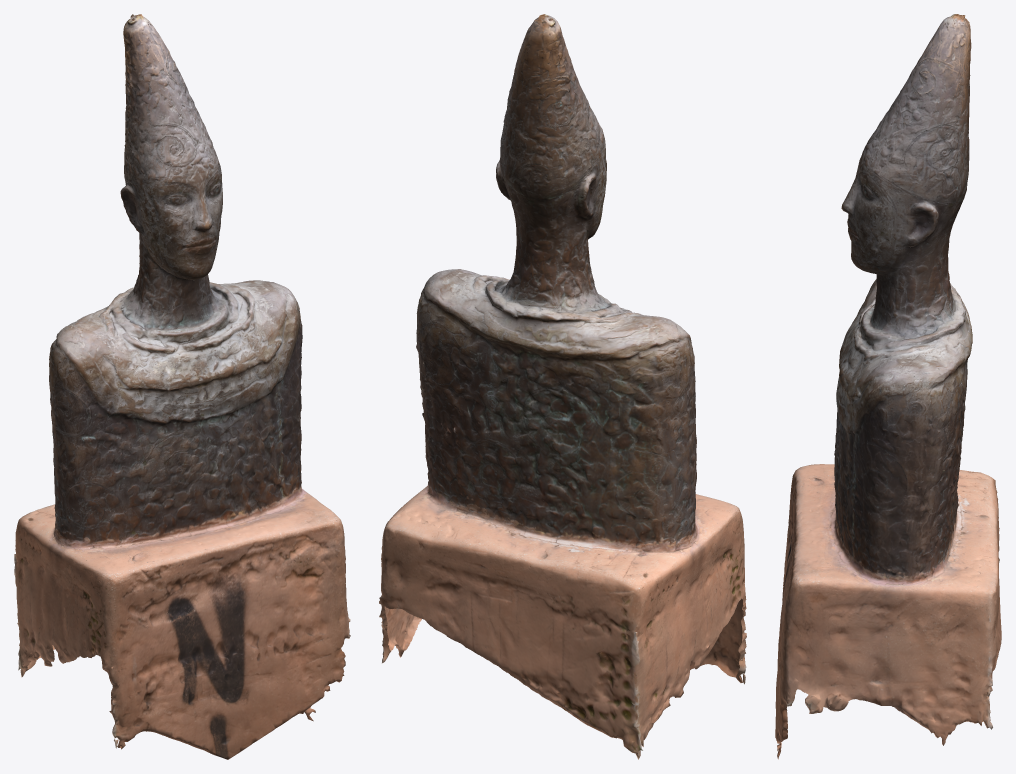
3 renders of one model, left to right at view 1: azimuth 30°, elevation 25°; view 2: azimuth 150°, elevation 25°; view 3: azimuth 270°, elevation 25°, orthographic. The views are drawn at different scales.
Visible parts, largest first — view 1: auguststrassepiece01.2k.50k; view 2: auguststrassepiece01.2k.50k; view 3: auguststrassepiece01.2k.50k.
Boxes of the visible parts, left/top/right/bottom form: auguststrassepiece01.2k.50k: left=14, top=14, right=350, bottom=759; auguststrassepiece01.2k.50k: left=379, top=14, right=746, bottom=759; auguststrassepiece01.2k.50k: left=775, top=14, right=1001, bottom=759.
Bounding box in the file's own units: 2.32 × 5.92 × 1.7.
1 material, 1 textured.
